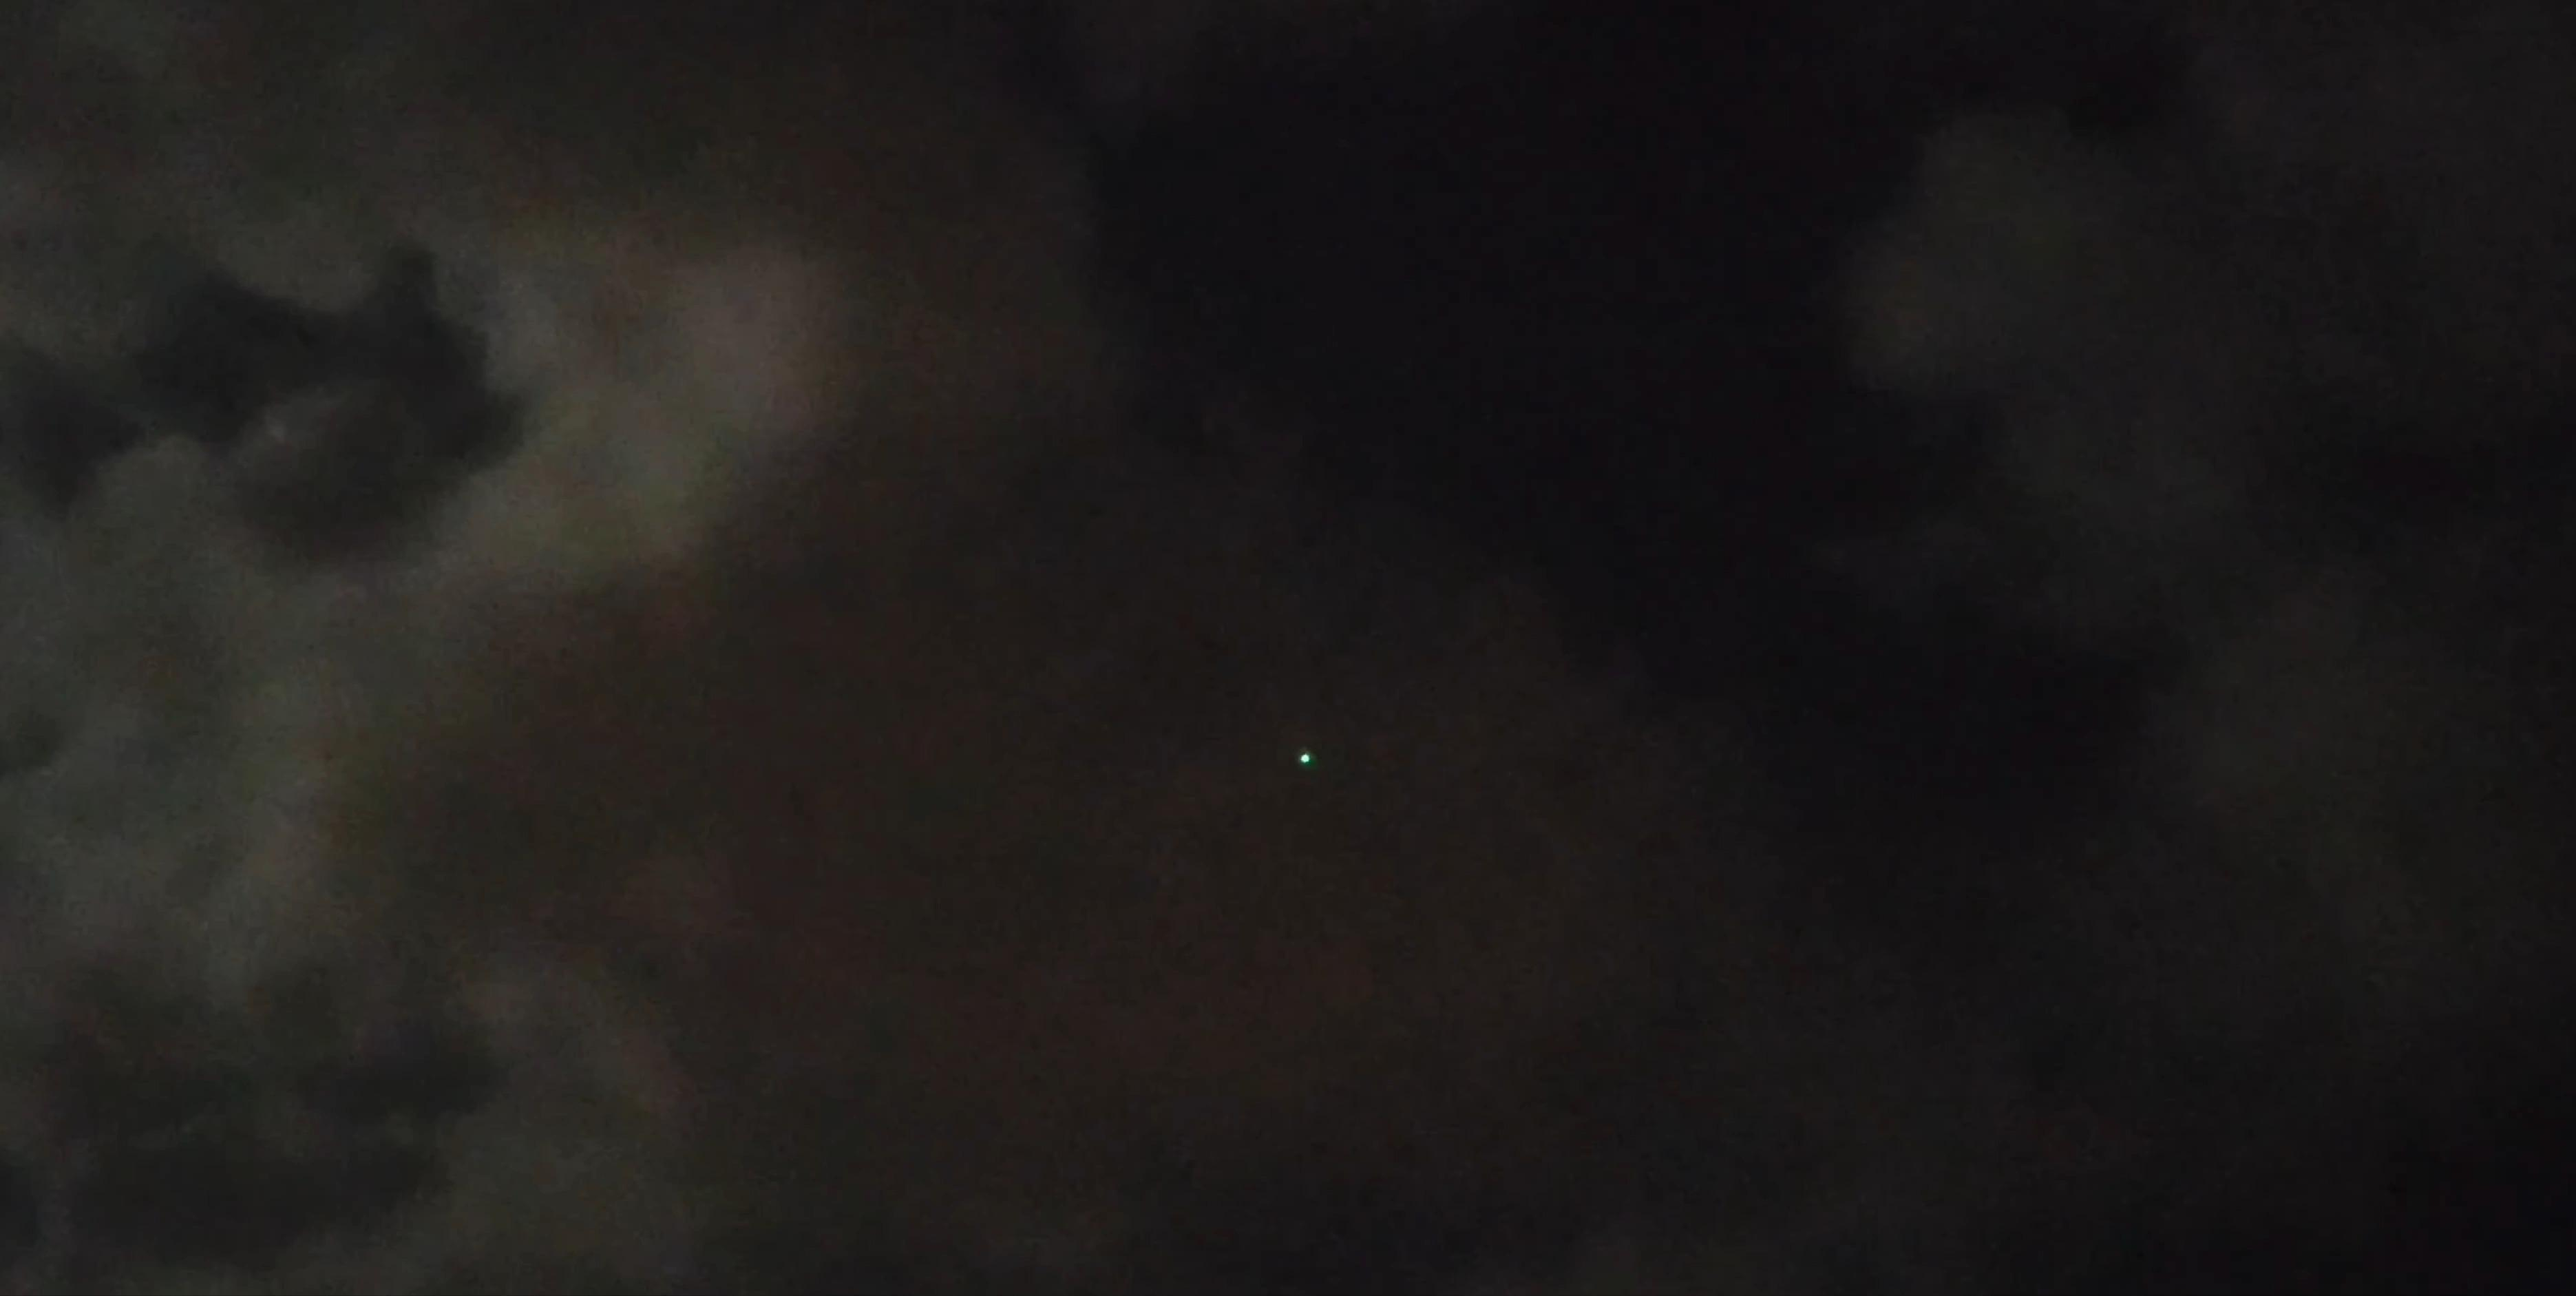Plane: (1277, 736, 1332, 780)
